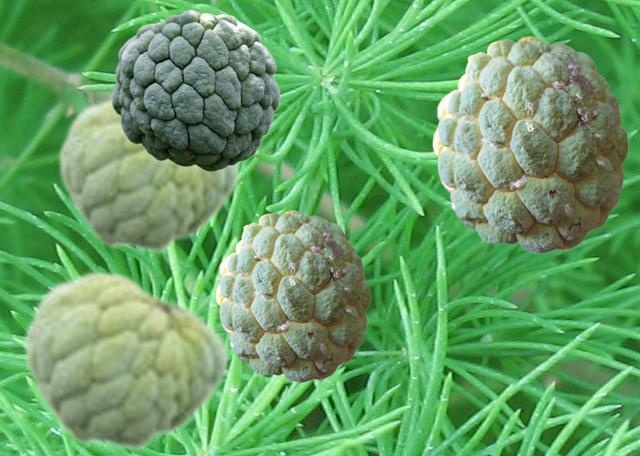atis: (432, 36, 627, 252), (21, 268, 229, 452), (56, 92, 239, 254), (111, 9, 279, 171), (215, 210, 369, 381)
